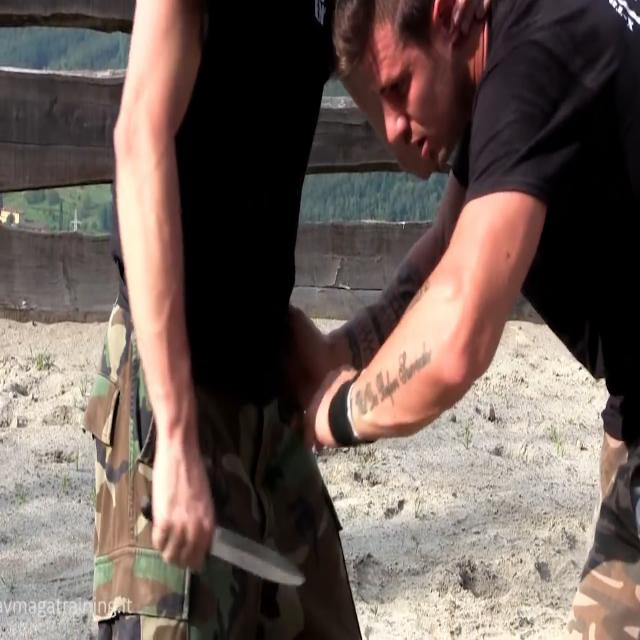knife: (142, 497, 311, 591)
